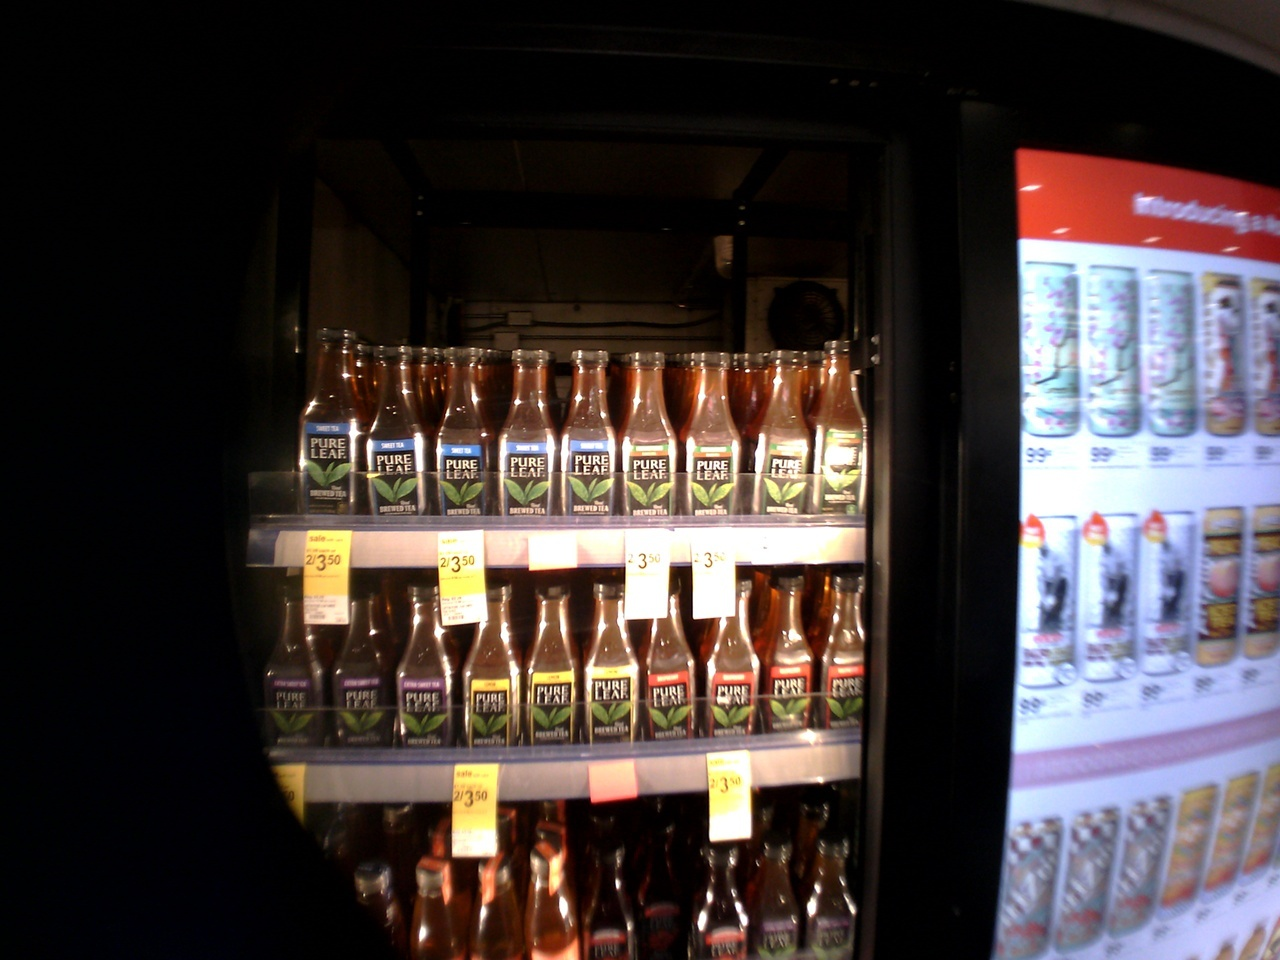shelf: (268, 328, 882, 569), (254, 571, 862, 788), (281, 789, 857, 960)
